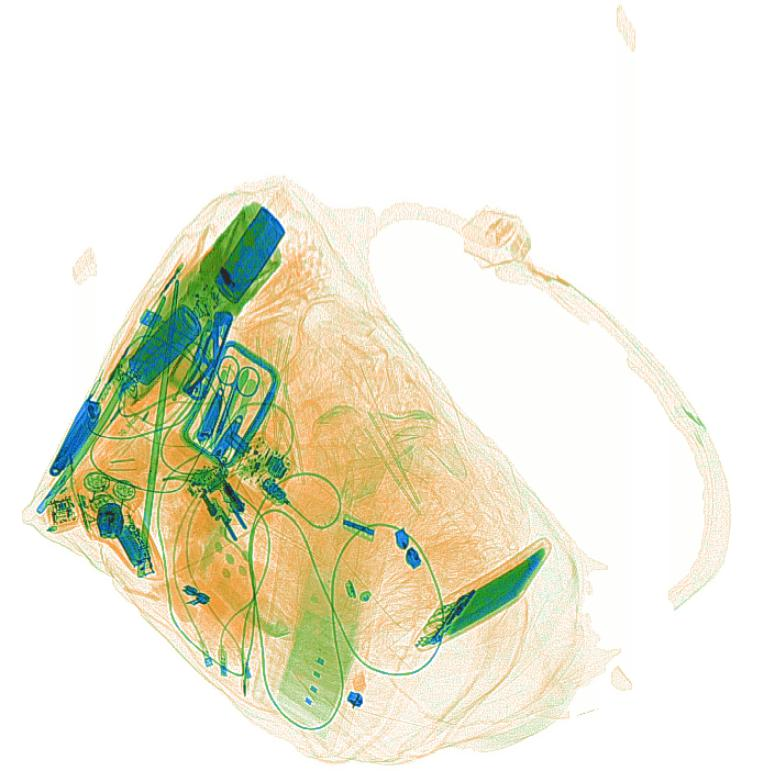battery: (213, 202, 288, 305), (124, 303, 203, 387), (111, 521, 147, 567)
knife: (180, 307, 233, 400)
scissors: (213, 351, 262, 442)
